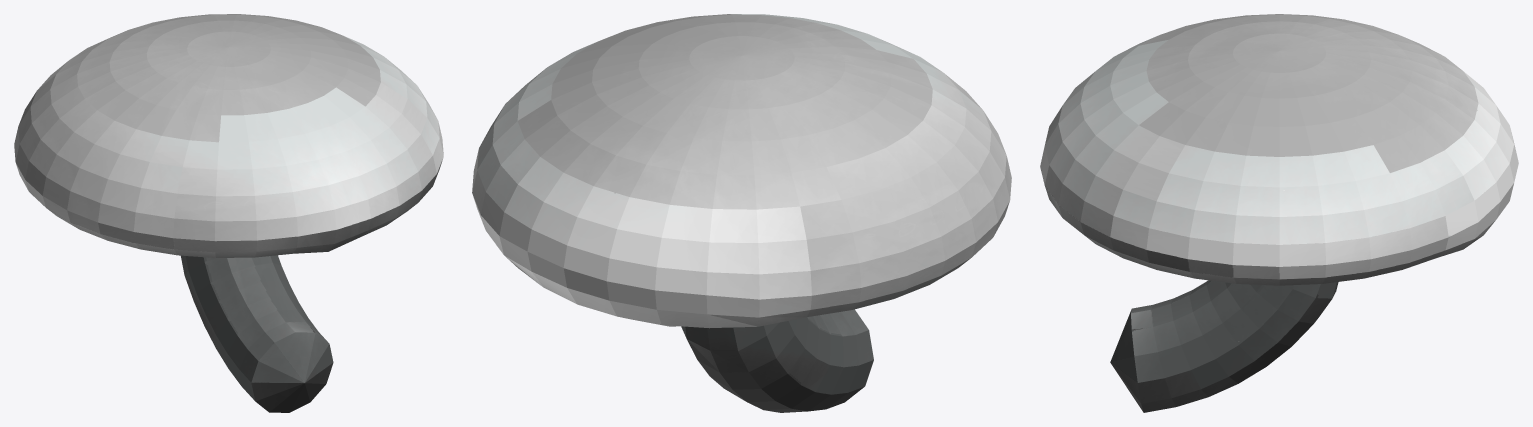
Rendered from Mashroom.fbx.
3 renders of one model, left to right at view 1: azimuth 30°, elevation 25°; view 2: azimuth 150°, elevation 25°; view 3: azimuth 270°, elevation 25°, orthographic. The views are drawn at different scales.
Visible parts, largest first — view 1: Sphere.001; view 2: Sphere.001; view 3: Sphere.001.
Part boxes in pixels (box(x1,y1,x2,y2)): Sphere.001: box(14, 14, 443, 412); Sphere.001: box(472, 14, 1011, 412); Sphere.001: box(1040, 14, 1518, 412).
Size of the model in its own units: 545 by 449 by 545.
